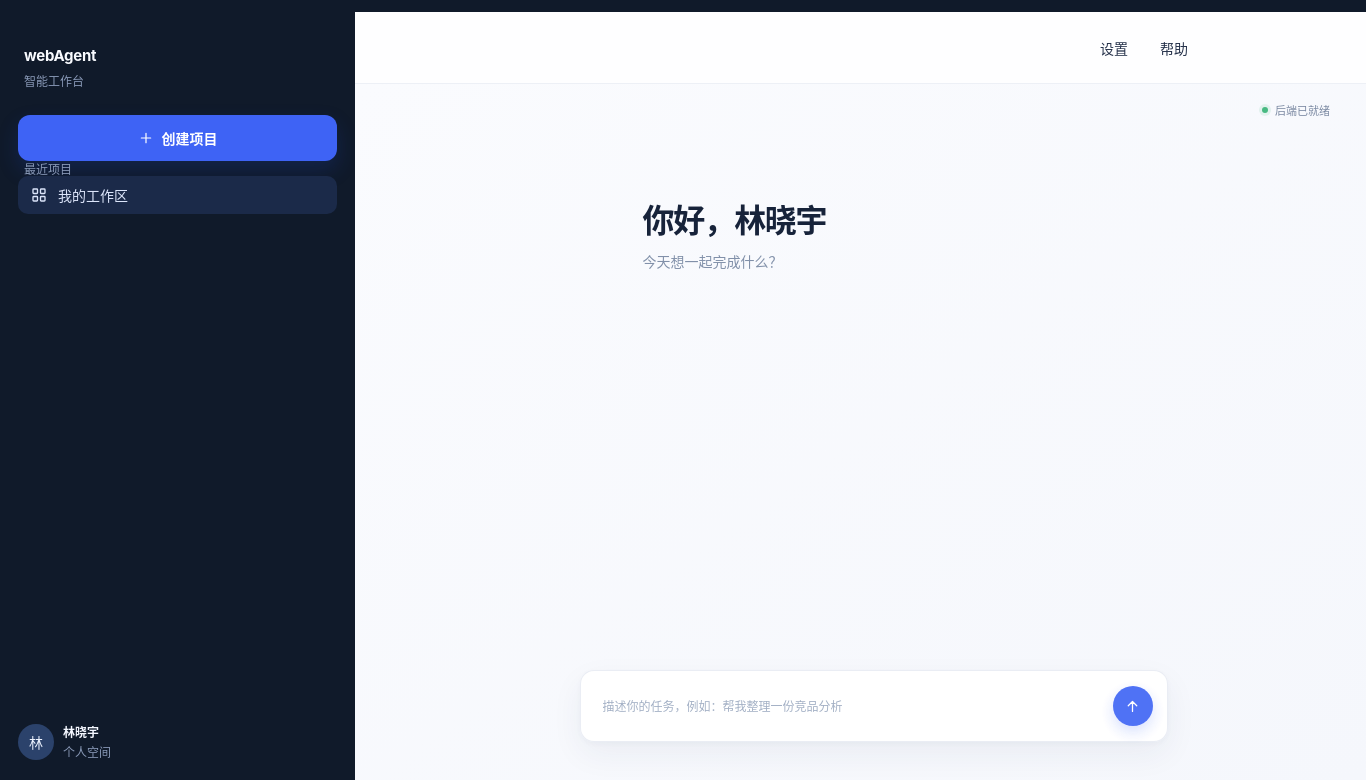
it: desktop run workspace › opens on the workspace home with a task prompt and settings navigation
Expected: the heading "你好，林晓宇" is shown, [643,201,826,240]
Expected: the field with placeholder "描述你的任务，例如：帮我整理一份竞品分析" is shown, [603,698,1101,714]
Click the button "设置": (1114, 48) [1098,12,1130,83]
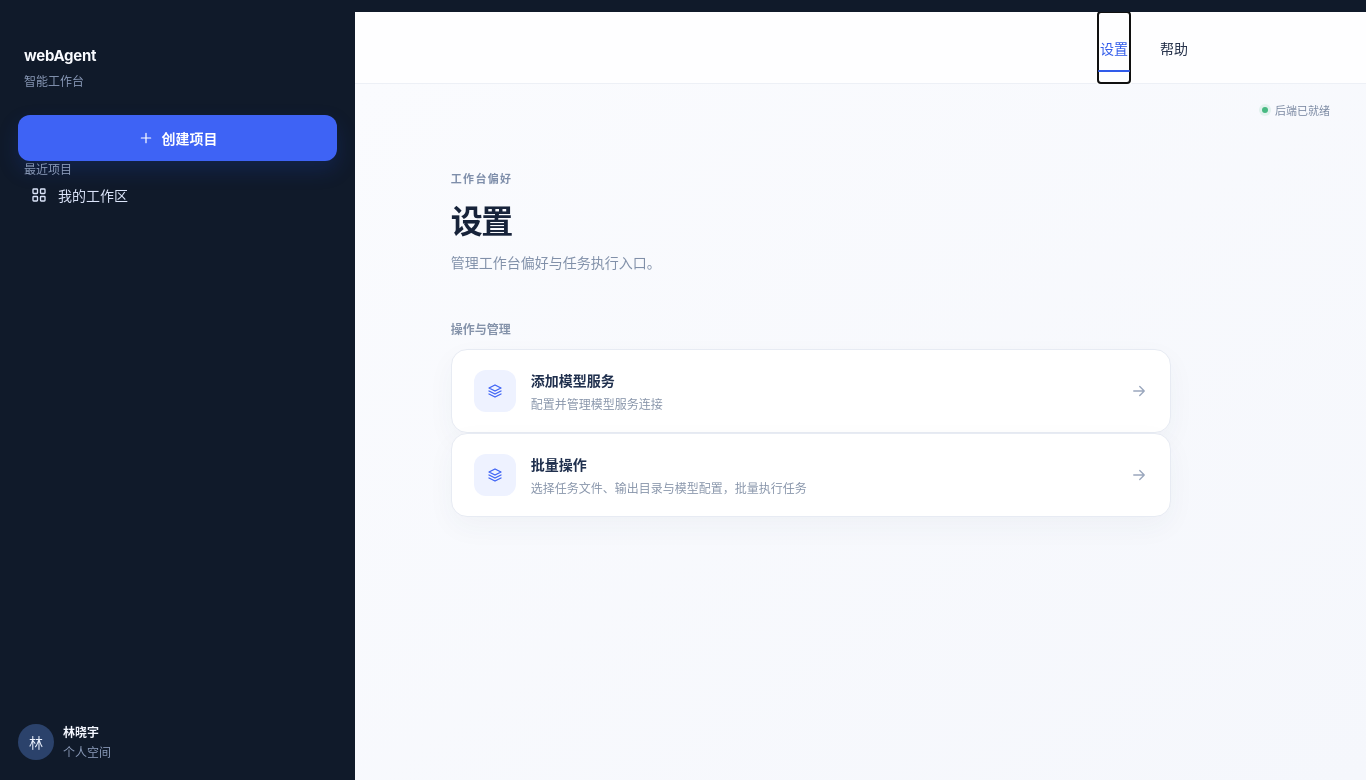
Expected: the heading "设置" is shown, [451,202,512,241]
Expected: the button "批量操作 选择任务文件、输出目录与模型配置，批量执行任务" is shown, [451,433,1171,517]
